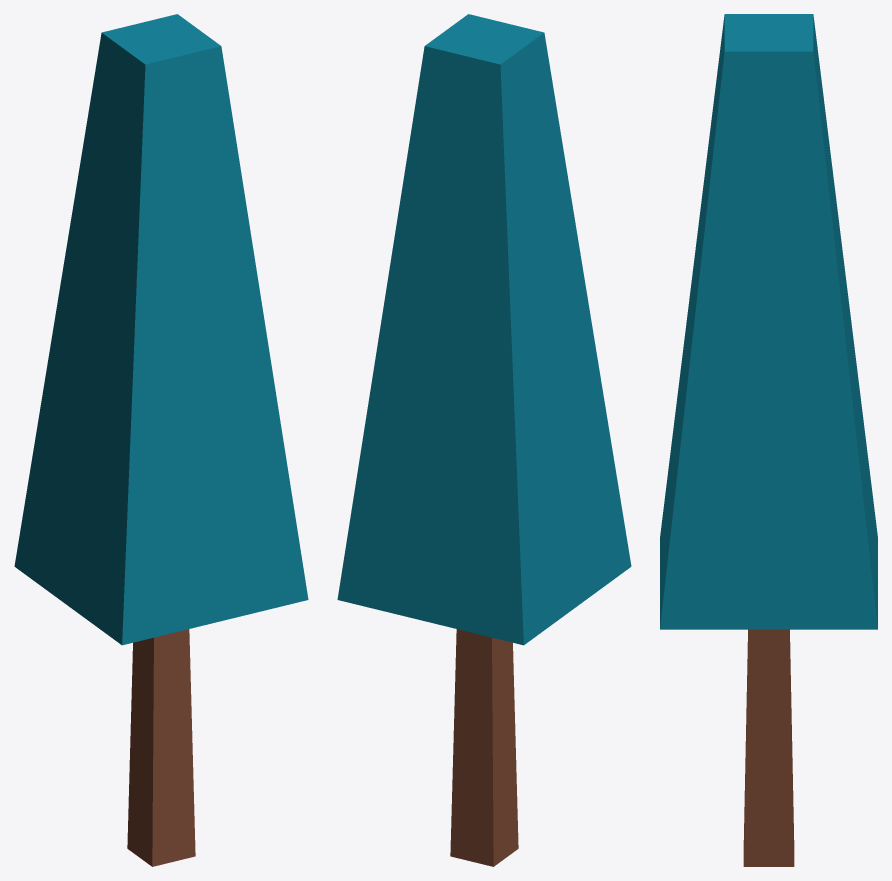
File: Tree_26_summer_blue_mat.fbx
3 views of the same model, side by side, from view 1: azimuth 30°, elevation 25°; view 2: azimuth 150°, elevation 25°; view 3: azimuth 270°, elevation 25° (orthographic).
Visible parts, largest first — view 1: Tree_26_summer_blue_mat; view 2: Tree_26_summer_blue_mat; view 3: Tree_26_summer_blue_mat.
Boxes of the visible parts, x1,y1,x2,y2 form: Tree_26_summer_blue_mat: [14, 14, 308, 866]; Tree_26_summer_blue_mat: [337, 14, 631, 866]; Tree_26_summer_blue_mat: [660, 14, 877, 866].
Bounding box in the file's own units: 63.19 × 263 × 63.19.
